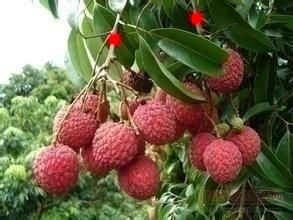litchi: (156, 49, 258, 179), (39, 94, 165, 194)
stem: (97, 1, 127, 81), (191, 1, 207, 37)
